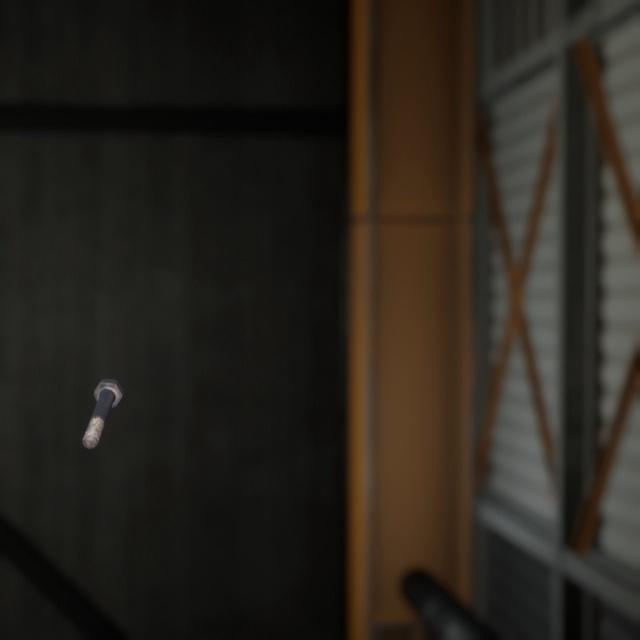bolt: (77, 355, 128, 433)
